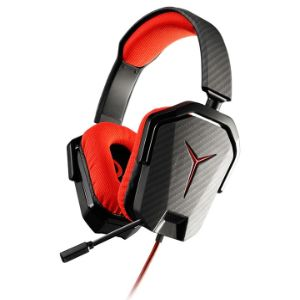headset: (43, 4, 261, 267)
